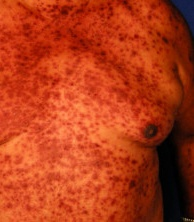SJS-TEN: (0, 0, 189, 221)
